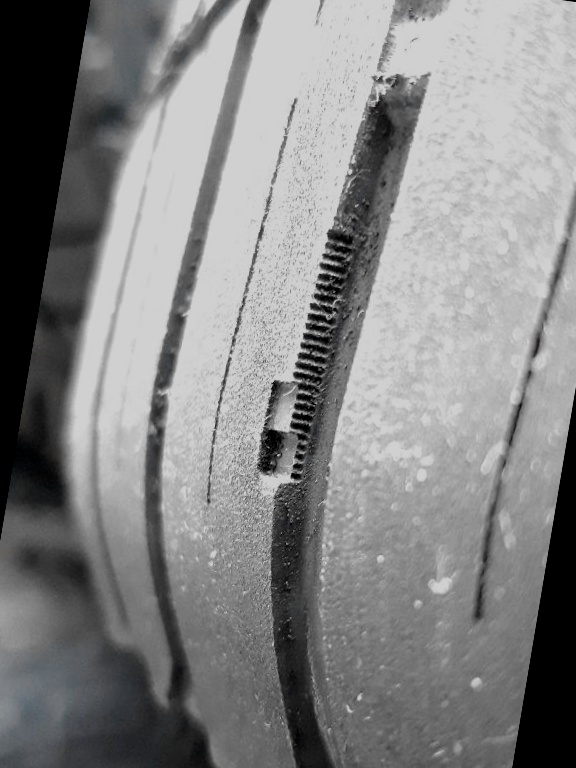temoin:25: (239, 364, 336, 505)
